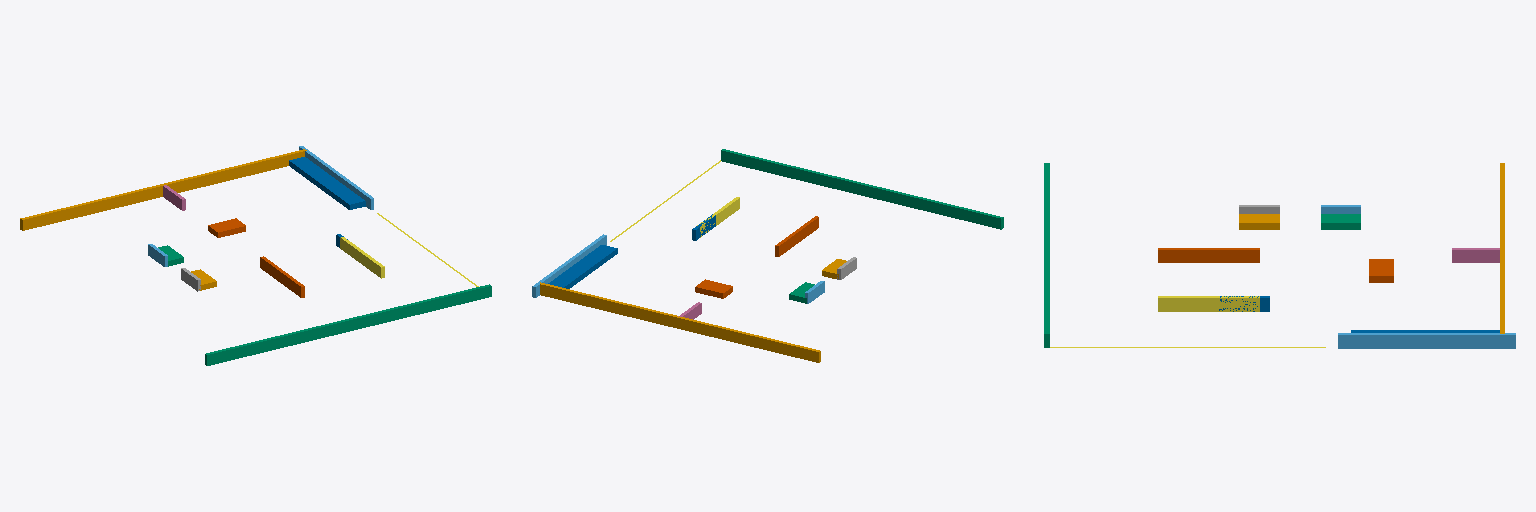
robot.urdf — arena:
<robot name="arena">
  <link name="wall_1">
    <inertial>
      <origin xyz="0 4 0" /> 
      <mass value="10.0" />
      <inertia  ixx="1.0" ixy="0.0"  ixz="0.0"  iyy="1.0"  iyz="0.0"  izz="1.0" />
    </inertial>
    <visual>
      <origin xyz="0 4 0"/>
      <geometry>
        <box size="8 0.1 0.3" />
      </geometry>
    </visual>
    <collision>
      <origin xyz="0 4 0"/>
      <geometry>
      <box size="8 0.1 0.3" />
      </geometry>
    </collision>
  </link>

  <joint name="join1" type="fixed">
    <origin xyz="2 0 0" rpy="0 0 0"/>
    <parent link="wall_1"/>
    <child link="wall_2"/>
  </joint>

  <link name="wall_2">
    <inertial>
      <origin xyz="2 2.5 0" /> 
      <mass value="10.0" />
      <inertia  ixx="1.0" ixy="0.0"  ixz="0.0"  iyy="1.0"  iyz="0.0"  izz="1.0" />
    </inertial>
    <visual>
      <origin xyz="2 2.5 0"/>
      <geometry>
        <box size="0.1 -3.5 0.3" />
      </geometry>
    </visual>
    <collision>
      <origin xyz="2 2.5 0"/>
      <geometry>
        <box size="0.1 -3.5 0.3" />
      </geometry>
    </collision>
  </link>

  <joint name="join2" type="fixed">
    <origin xyz="-2 -1.2 0" rpy="0 0 0"/>
    <parent link="wall_2"/>
    <child link="wall_3"/>
  </joint>

  <link name="wall_3">
    <inertial>
      <origin xyz="0 -3.8 0" /> 
      <mass value="10.0" />
      <inertia  ixx="1.0" ixy="0.0"  ixz="0.0"  iyy="1.0"  iyz="0.0"  izz="1.0" />
    </inertial>
    <visual>
      <origin xyz="0 -3.8 0"/>
      <geometry>
        <box size="8 0.1 0.3" />
      </geometry>
    </visual>
    <collision>
      <origin xyz="0 -3.8 0"/>
      <geometry>
      <box size="8 0.1 0.3" />
      </geometry>
    </collision>
  </link>
  
  <link name="stripe">
   <visual>
      <origin xyz="2 -1.0 -0.145"/>
      <geometry>
        <box size="0.05 5.5 0.0" />
      </geometry>
    </visual>
  </link>
  
  <joint name="joint_stripe" type="fixed">
    <origin xyz="0 -1.25 0.0" rpy="0 0 0"/>
    <parent link="wall_2"/>
    <child link="stripe"/>
  </joint>
  
  <joint name="join10" type="fixed">
    <origin xyz="-0.25 0.0 0.0" rpy="0 0 0"/>
    <parent link="wall_2"/>
    <child link="wall_10"/>
  </joint>

  <link name="wall_10">
    <inertial>
      <origin xyz="2 1.6 -0.075" /> 
      <mass value="10.0" />
      <inertia  ixx="1.0" ixy="0.0"  ixz="0.0"  iyy="1.0"  iyz="0.0"  izz="1.0" />
    </inertial>
    <visual>
      <origin xyz="2 2.5 -0.075"/>
      <geometry>
        <box size="0.5 3 0.15" />
      </geometry>
    </visual>
    <collision>
      <origin xyz="2 2.5 -0.075" /> 
      <geometry>
      <box size="0.5 3 0.15" />
      </geometry>
    </collision>
  </link>

  <joint name="join3" type="fixed">
    <origin xyz="0 -0.4 0" rpy="0 0 0"/>
    <parent link="wall_3"/>
    <child link="wall_4"/>
  </joint>

  <link name="wall_4">
    <inertial>
      <origin xyz="0 -0.2 0" /> 
      <mass value="10.0" />
      <inertia  ixx="1.0" ixy="0.0"  ixz="0.0"  iyy="1.0"  iyz="0.0"  izz="1.0" />
    </inertial>
    <visual>
      <origin xyz="0 -0.2 0"/>
      <geometry>
        <box size="0.1 2 0.3" />
      </geometry>
    </visual>
    <collision>
      <origin xyz="0 -0.2 0"/>
      <geometry>
      <box size="0.1 2 0.3" />
      </geometry>
    </collision>
  </link>

  <joint name="join4" type="fixed">
    <origin xyz="0 0 0" rpy="0 0 0"/>
    <parent link="wall_1"/>
    <child link="wall_5"/>
  </joint>

  <link name="wall_5">
    <inertial>
      <origin xyz="0 3.5 0" /> 
      <mass value="10.0" />
      <inertia  ixx="1.0" ixy="0.0"  ixz="0.0"  iyy="1.0"  iyz="0.0"  izz="1.0" />
    </inertial>
    <visual>
      <origin xyz="0 3.5 0"/>
      <geometry>
        <box size="0.1 1 0.3" />
      </geometry>
    </visual>
    <collision>
      <origin xyz="0 3.5 0" /> 
      <geometry>
      <box size="0.1 1 0.3" />
      </geometry>
    </collision>
  </link>

----------
  <joint name="join5" type="fixed">
    <origin xyz="-2 -0.4 0" rpy="0 0 0"/>
    <parent link="wall_3"/>
    <child link="wall_6"/>
  </joint>

  <link name="wall_6">
    <inertial>
      <origin xyz="0 0.8 0" /> 
      <mass value="10.0" />
      <inertia  ixx="1.0" ixy="0.0"  ixz="0.0"  iyy="1.0"  iyz="0.0"  izz="1.0" />
    </inertial>
    <visual>
      <origin xyz="0 0.8 0"/>
      <geometry>
        <box size="0.1 0.8 0.3" />
      </geometry>
    </visual>
    <collision>
      <origin xyz="0 0.8 0"/>
      <geometry>
      <box size="0.1 0.8 0.3" />
      </geometry>
    </collision>
  </link>
  
  <joint name="join8" type="fixed">
    <origin xyz="0.25 0.8 0.0" rpy="0 0 0"/>
    <parent link="wall_6"/>
    <child link="wall_9"/>
  </joint>

  <link name="wall_9">
    <inertial>
      <origin xyz="0 0.0 -0.075" /> 
      <mass value="10.0" />
      <inertia  ixx="1.0" ixy="0.0"  ixz="0.0"  iyy="1.0"  iyz="0.0"  izz="1.0" />
    </inertial>
    <visual>
      <origin xyz="0 0.0 -0.075"/>
      <geometry>
        <box size="0.5 0.8 0.15" />
      </geometry>
    </visual>
    <collision>
      <origin xyz="0 0.0 -0.075" /> 
      <geometry>
      <box size="0.5 0.8 0.15" />
      </geometry>
    </collision>
  </link>

  <joint name="join6" type="fixed">
    <origin xyz="-2 0 0" rpy="0 0 0"/>
    <parent link="wall_1"/>
    <child link="wall_7"/>
  </joint>

  <link name="wall_7">
    <inertial>
      <origin xyz="0 0.8 0" /> 
      <mass value="10.0" />
      <inertia  ixx="1.0" ixy="0.0"  ixz="0.0"  iyy="1.0"  iyz="0.0"  izz="1.0" />
    </inertial>
    <visual>
      <origin xyz="0 0.8 0"/>
      <geometry>
        <box size="0.1 0.8 0.3" />
      </geometry>
    </visual>
    <collision>
      <origin xyz="0 0.8 0" /> 
      <geometry>
      <box size="0.1 0.8 0.3" />
      </geometry>
    </collision>
  </link>

  <joint name="join7" type="fixed">
    <origin xyz="0.25 0.8 0.0" rpy="0 0 0"/>
    <parent link="wall_7"/>
    <child link="wall_8"/>
  </joint>

  <link name="wall_8">
    <inertial>
      <origin xyz="-3 0.0 -0.075" /> 
      <mass value="10.0" />
      <inertia  ixx="1.0" ixy="0.0"  ixz="0.0"  iyy="1.0"  iyz="0.0"  izz="1.0" />
    </inertial>
    <visual>
      <origin xyz="0 0.0 -0.075"/>
      <geometry>
        <box size="0.5 0.8 0.15" />
      </geometry>
    </visual>
    <collision>
      <origin xyz="0 0.0 -0.075" /> 
      <geometry>
      <box size="0.5 0.8 0.15" />
      </geometry>
    </collision>
  </link>
   
  <link name="wall_btw_tables">
    <inertial>
      <origin xyz="1.0 0.0 0.00" /> 
      <mass value="10.0" />
      <inertia  ixx="1.0" ixy="0.0"  ixz="0.0"  iyy="1.0"  iyz="0.0"  izz="1.0" />
    </inertial>
    <visual>
      <origin xyz="1.0 0.0 0.0"/>
      <geometry>
        <box size="0.1 2.0 0.3" />
      </geometry>
    </visual>
    <collision>
      <origin xyz="1.0 0.0 0.0" /> 
      <geometry>
      <box size="0.1 2.0 0.3" />
      </geometry>
    </collision>
  </link>
  
  <joint name="joint_1" type="fixed">
    <origin xyz="1.25 -0.2 0.0" rpy="0 0 0"/>
    <parent link="wall_4"/>
    <child link="wall_btw_tables"/>
  </joint>
  
  
  <link name="wall_11">
    <inertial>
      <origin xyz="1 1 0" /> 
      <mass value="10.0" />
      <inertia  ixx="1.0" ixy="0.0"  ixz="0.0"  iyy="1.0"  iyz="0.0"  izz="1.0" />
    </inertial>
    <visual>
      <origin xyz="1 1 0"/>
      <geometry>
        <box size="0.1 1 0.3" />
      </geometry>
    </visual>
    <collision>
      <origin xyz="1 1 0"/>
      <geometry>
        <box size="0.1 1 0.3" />
      </geometry>
    </collision>
  </link>

  <joint name="joint_2" type="fixed">
    <origin xyz="1.25 -0.5 0.0" rpy="0 0 0"/>
    <parent link="wall_4"/>
    <child link="wall_11"/>
  </joint>
  
  <link name="wall_12">
    <inertial>
      <origin xyz="0.1 0.1 -0.15" /> 
      <mass value="10.0" />
      <inertia  ixx="1.0" ixy="0.0"  ixz="0.0"  iyy="1.0"  iyz="0.0"  izz="1.0" />
    </inertial>
    <visual>
      <origin xyz="0.1 0.1 -0.15"/>
      <geometry>
        <box size="0.8 0.5 0.15" />
      </geometry>
    </visual>
    <collision>
      <origin xyz="0.1 0.1 -0.15"/>
      <geometry>
        <box size="0.8 0.5 0.15" />
      </geometry>
    </collision>
  </link>
  
  <joint name="joint_3" type="fixed">
    <origin xyz="0.3 1.5 0.0" rpy="0 0 0"/>
    <parent link="wall_1"/>
    <child link="wall_12"/>
  </joint>

  <gazebo reference="wall_1">
  <material>Gazebo/White</material>
  <selfCollide>true</selfCollide>
  </gazebo>
  <gazebo reference="wall_2">
  <material>Gazebo/White</material>
  <selfCollide>true</selfCollide>
  </gazebo>
  <gazebo reference="wall_3">
  <material>Gazebo/White</material>
  <selfCollide>true</selfCollide>
  </gazebo>
  <gazebo reference="wall_4">
  <material>Gazebo/White</material>
  <selfCollide>true</selfCollide>
  </gazebo>
  <gazebo reference="wall_5">
  <material>Gazebo/White</material>
  <selfCollide>true</selfCollide>
  </gazebo>
  <gazebo reference="wall_6">
  <material>Gazebo/White</material>
  <selfCollide>true</selfCollide>
  </gazebo>
  <gazebo reference="wall_7">
  <material>Gazebo/White</material>
  <selfCollide>true</selfCollide>
  </gazebo>
  <gazebo reference="wall_8">
  <material>Gazebo/White</material>
  <selfCollide>true</selfCollide>
  </gazebo>
  <gazebo reference="wall_9">
  <material>Gazebo/White</material>
  <selfCollide>true</selfCollide>
  </gazebo>
  <gazebo reference="wall_10">
  <material>Gazebo/White</material>
  <selfCollide>true</selfCollide>
  </gazebo>
  <gazebo reference="stripe">
  <material>stripe</material>
  </gazebo>
</robot>

--- Render facts (derived) ---
Views: 3 orthographic renders of the robot side by side, from view 1: azimuth 30°, elevation 25°; view 2: azimuth 150°, elevation 25°; view 3: azimuth 270°, elevation 25°.
Robot: arena — 14 links, 13 joints (13 fixed); root link wall_1; default pose: every joint at zero.
Visible links, largest first — view 1: wall_3, wall_1, wall_10, wall_2, wall_4, wall_btw_tables; view 2: wall_3, wall_1, wall_10, wall_2, wall_4; view 3: wall_2, wall_btw_tables, wall_4, wall_3, wall_1, wall_5, wall_9, wall_8, wall_12.
Link boxes in pixels (box(x1,y1,x2,y2)): wall_3: box(205, 284, 491, 365); wall_1: box(20, 149, 306, 230); wall_10: box(289, 157, 365, 209); wall_2: box(299, 146, 373, 209); wall_4: box(260, 256, 304, 297); wall_btw_tables: box(340, 237, 384, 278); wall_3: box(721, 149, 1003, 229); wall_1: box(540, 282, 820, 362); wall_10: box(548, 245, 617, 288); wall_2: box(532, 234, 606, 297); wall_4: box(775, 216, 818, 256); wall_2: box(1338, 333, 1515, 348); wall_btw_tables: box(1158, 296, 1259, 311); wall_4: box(1158, 248, 1259, 262); wall_3: box(1044, 163, 1049, 347); wall_1: box(1500, 163, 1504, 333); wall_5: box(1452, 248, 1499, 262); wall_9: box(1239, 214, 1279, 229); wall_8: box(1321, 214, 1360, 229); wall_12: box(1369, 259, 1393, 282).
Bounding box of the posed robot: 8.05 × 9.3 × 0.375 m (x, y, z).
Geometry: primitives only (box / cylinder / sphere), no mesh files.